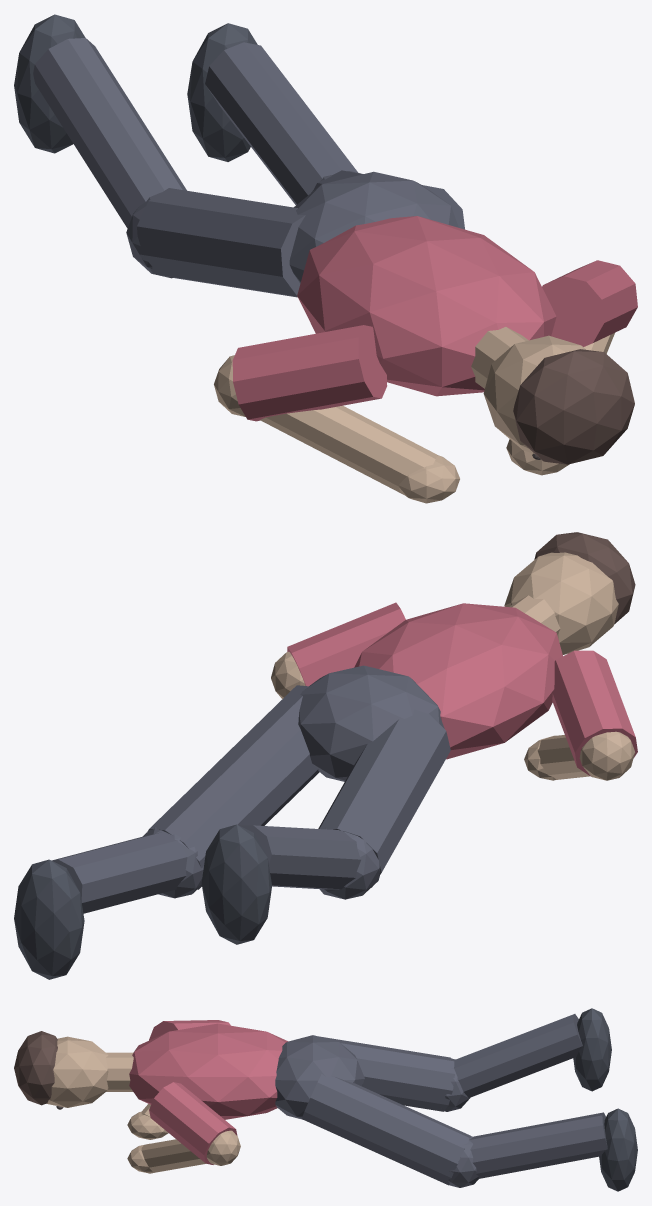
3 views of the same model, one above another, from view 1: azimuth 30°, elevation 25°; view 2: azimuth 150°, elevation 25°; view 3: azimuth 270°, elevation 25° (orthographic). The views are drawn at different scales.
Visible parts, largest first — view 1: world; view 2: world; view 3: world.
Part boxes in pixels (x1,y1,x2,y2): world: (14, 14, 637, 503); world: (14, 532, 637, 979); world: (14, 1008, 637, 1191).
Bounding box in the file's own units: 0.93 × 0.4628 × 2.04.
